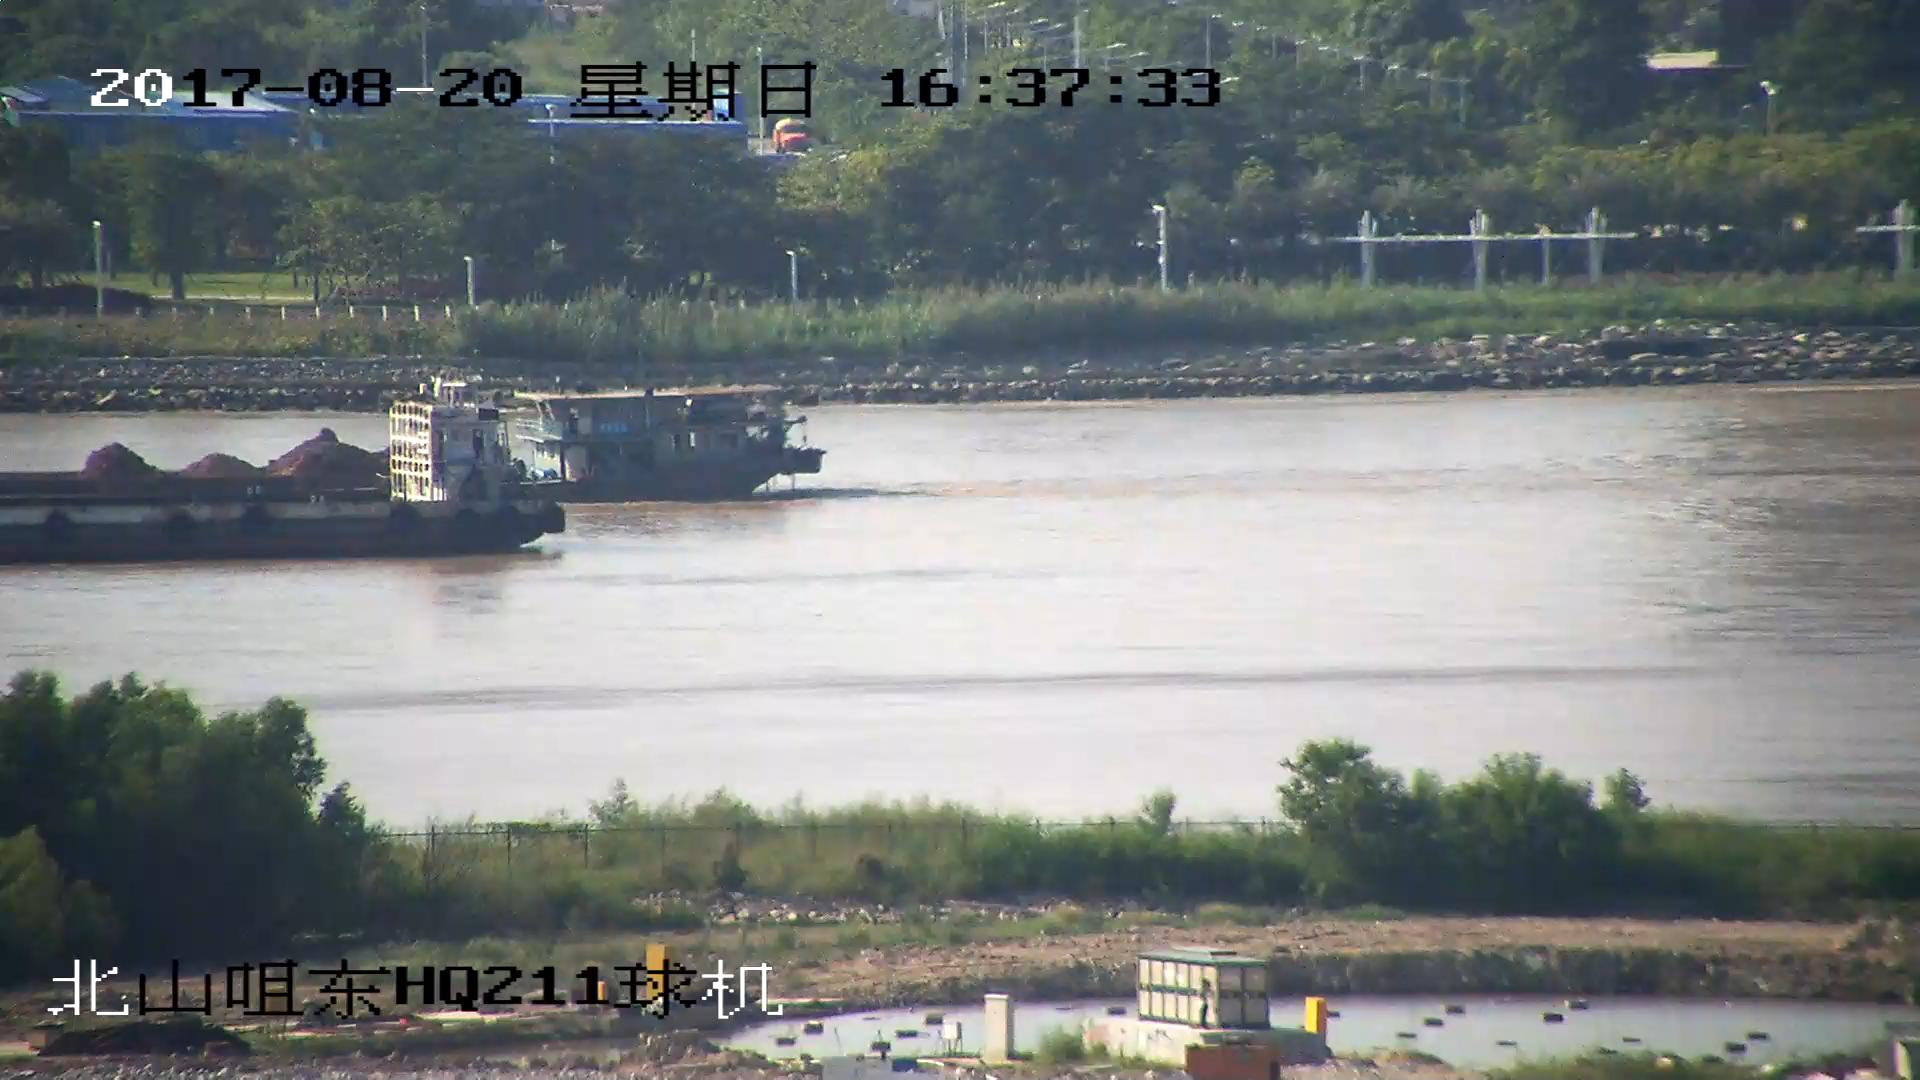general cargo ship: (1, 393, 548, 559)
ore carrier: (1, 389, 829, 512)
